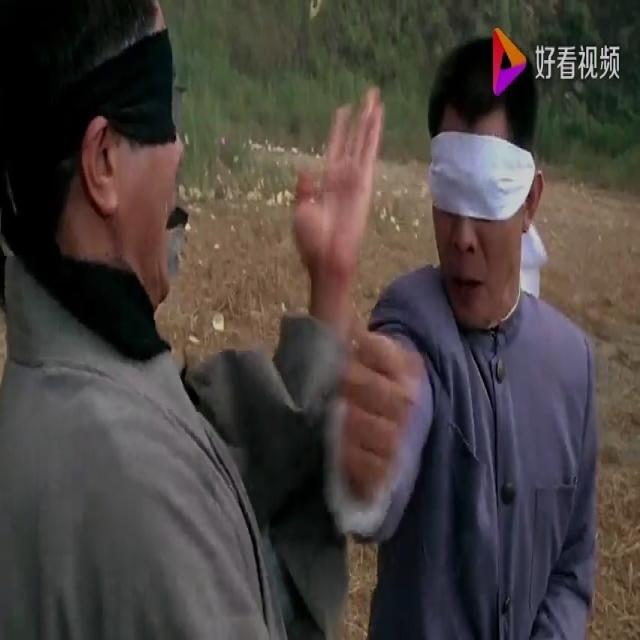fight: (1, 0, 597, 640)
